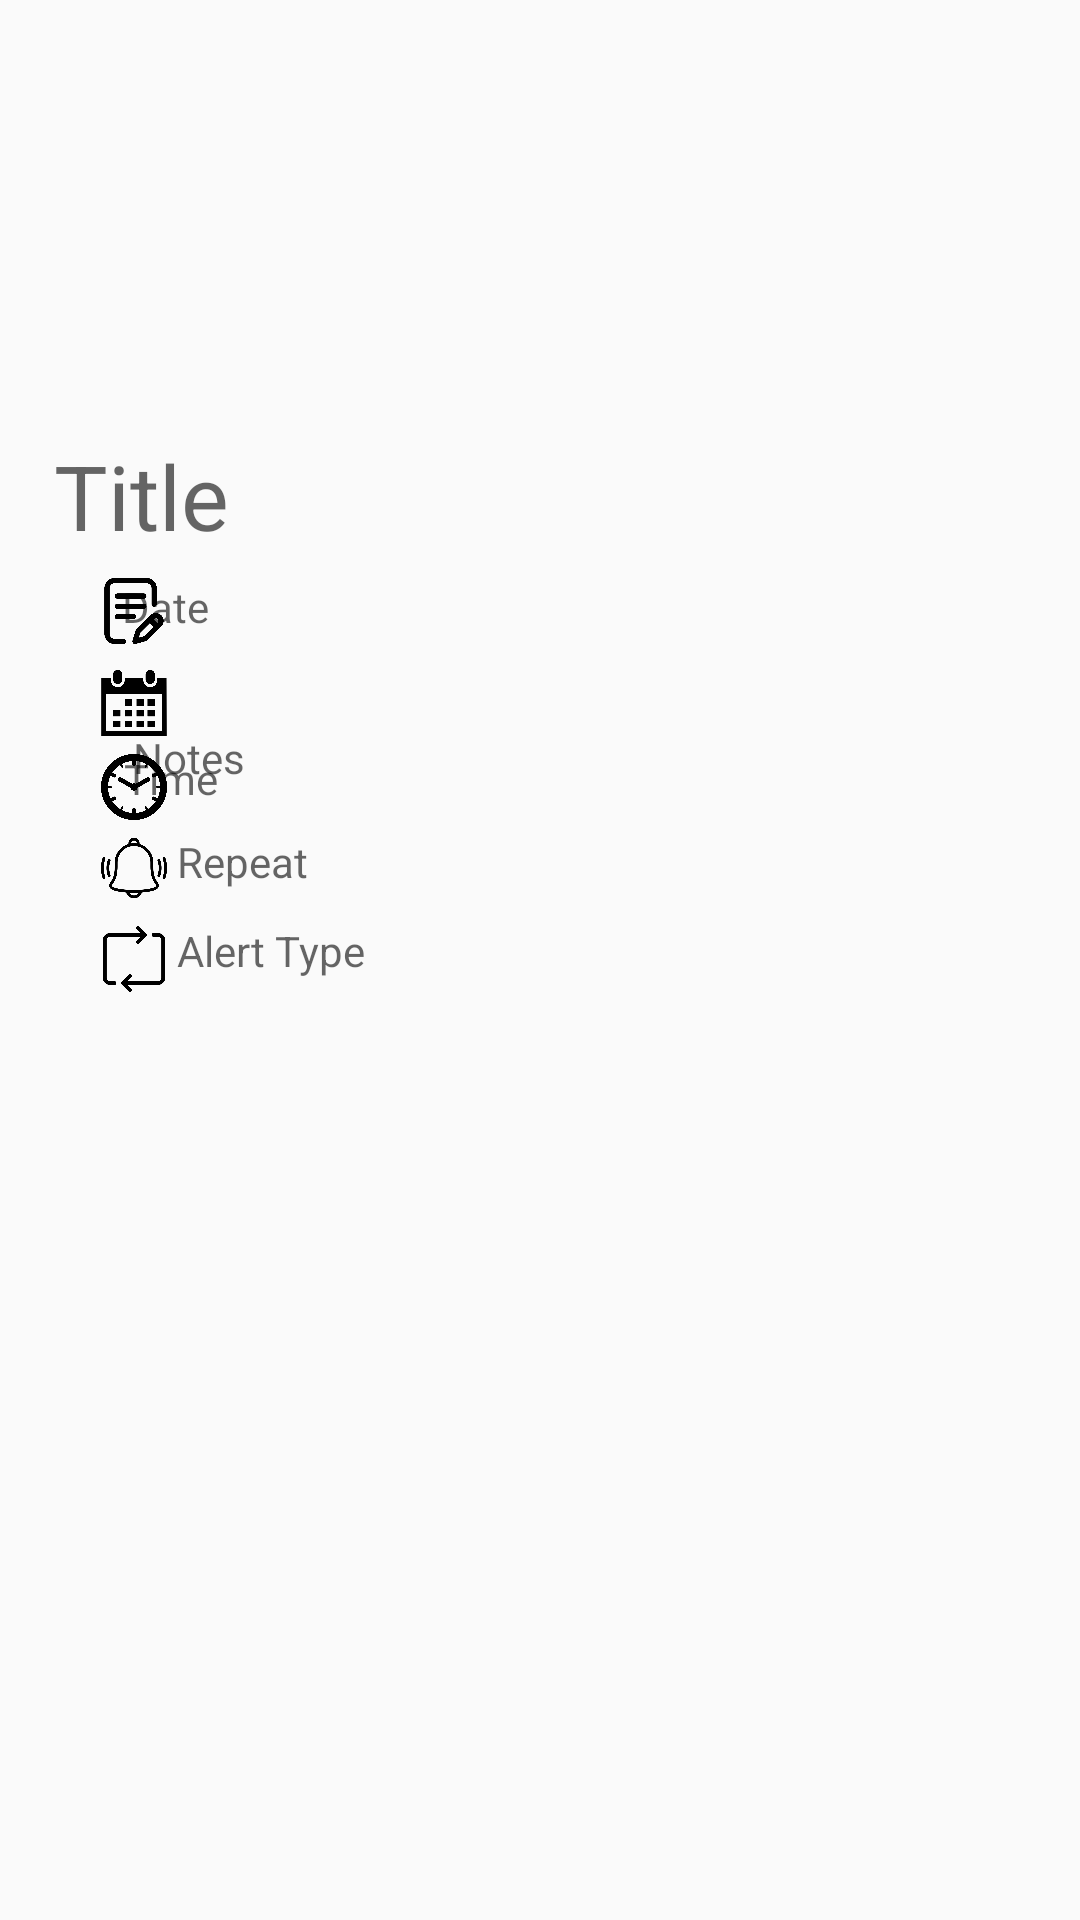

Icon click points for this 1080px x 1920px phone screenshot, format [x,y]:
alarm: [134,868]
wall clock: [134,787]
writing: [135,611]
